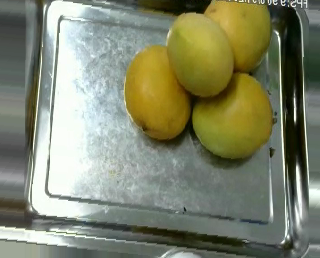Mango: (191, 74, 273, 160), (126, 46, 192, 138), (166, 12, 235, 96), (202, 0, 270, 72)
